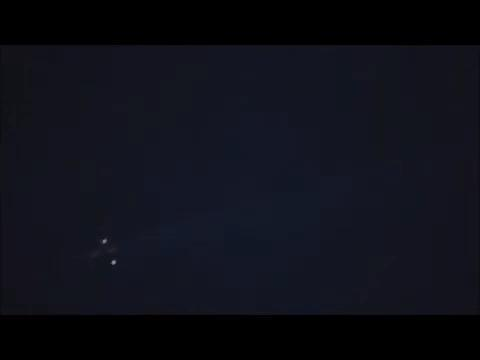Plane: (65, 228, 144, 275)
